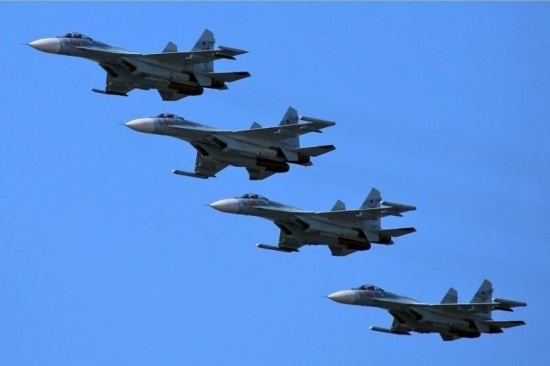airplane: (120, 104, 339, 190), (23, 28, 257, 103), (318, 274, 531, 344), (207, 187, 422, 254)
